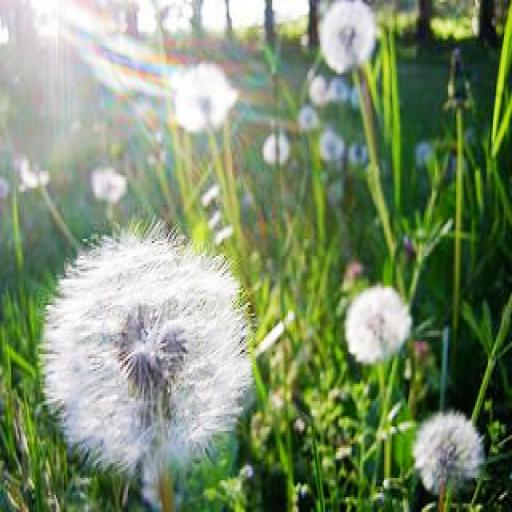dandelion: (40, 231, 254, 482), (411, 412, 485, 495), (346, 284, 410, 365), (172, 62, 242, 132)
